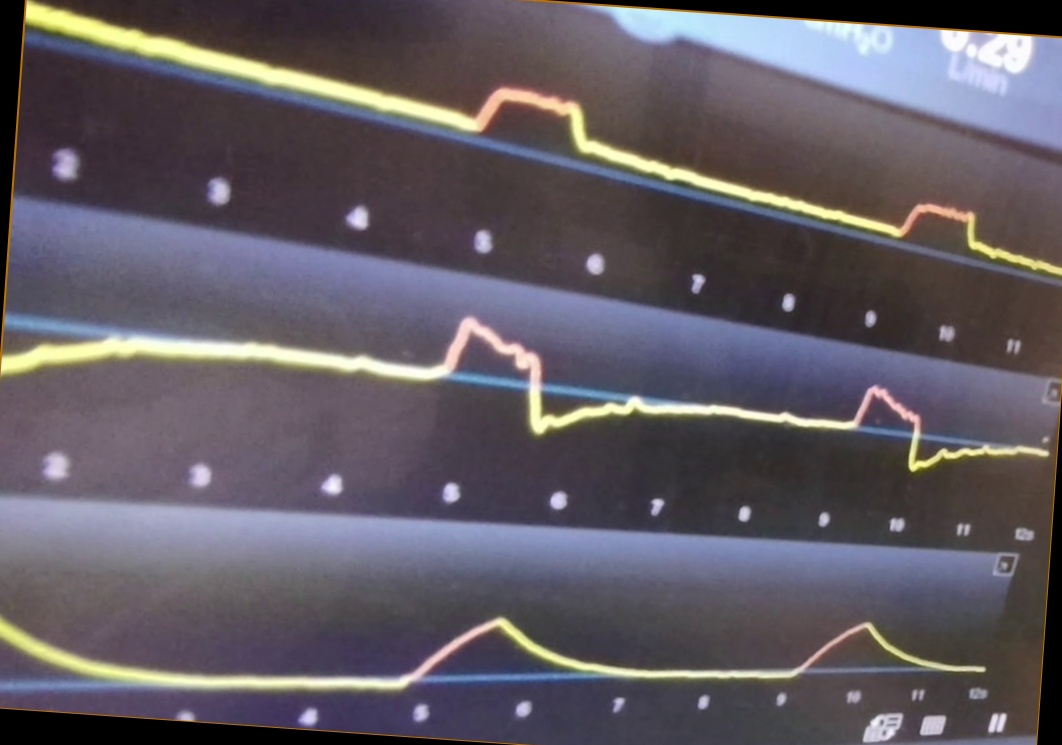Accumulation Flow: (6, 315, 1047, 474)
Volume: (2, 587, 986, 701)
